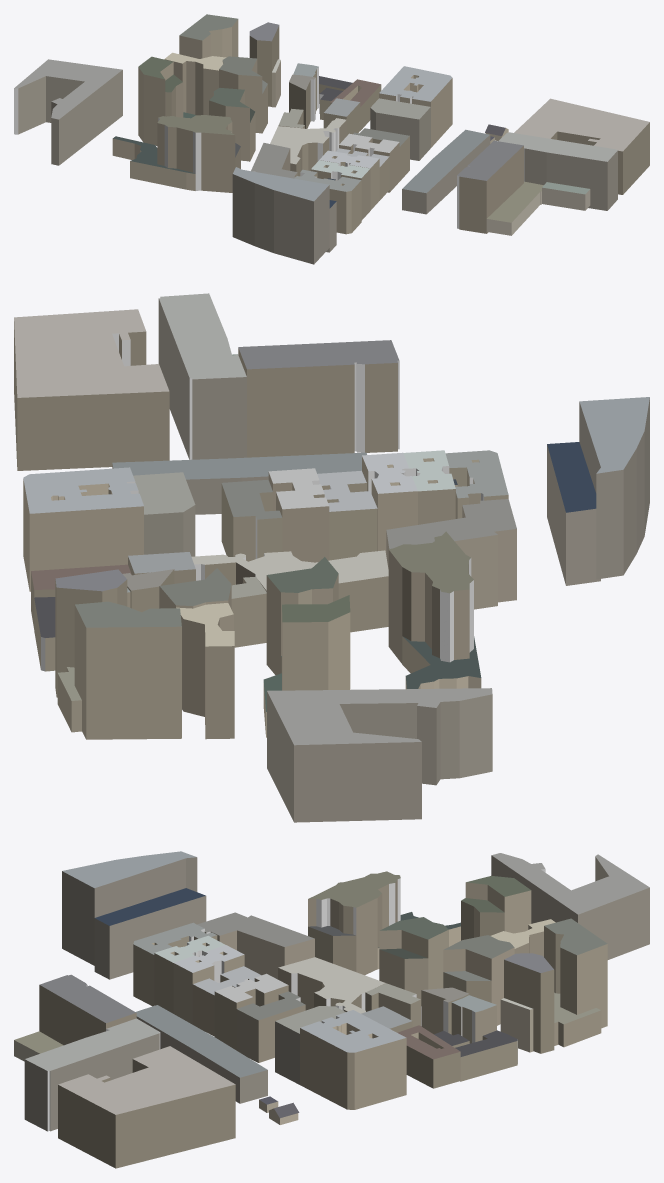
The picture shows the model from 3 angles, top to bottom: view 1: azimuth 30°, elevation 25°; view 2: azimuth 150°, elevation 25°; view 3: azimuth 270°, elevation 25°; orthographic projection. The views are drawn at different scales.
Visible parts, largest first — view 1: tuile; view 2: tuile; view 3: tuile.
Boxes of the visible parts, x1=… form: tuile: x1=14, y1=14, x2=649, y2=264; tuile: x1=14, y1=293, x2=649, y2=822; tuile: x1=14, y1=851, x2=649, y2=1168.
Bounding box in the file's own units: 254 × 41.02 × 258.
